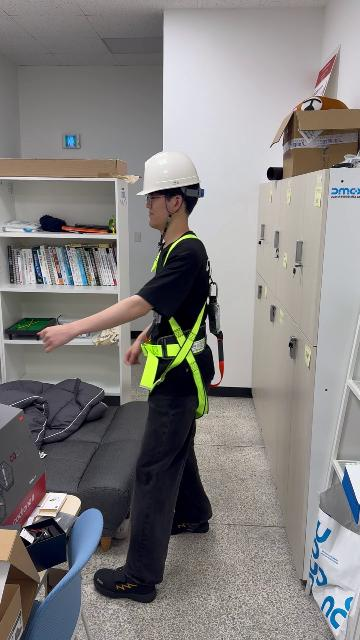helmet_worn: (137, 150, 206, 200)
shoe_worn: (93, 564, 161, 604), (167, 512, 211, 538)
vest_worn: (141, 237, 221, 417)
